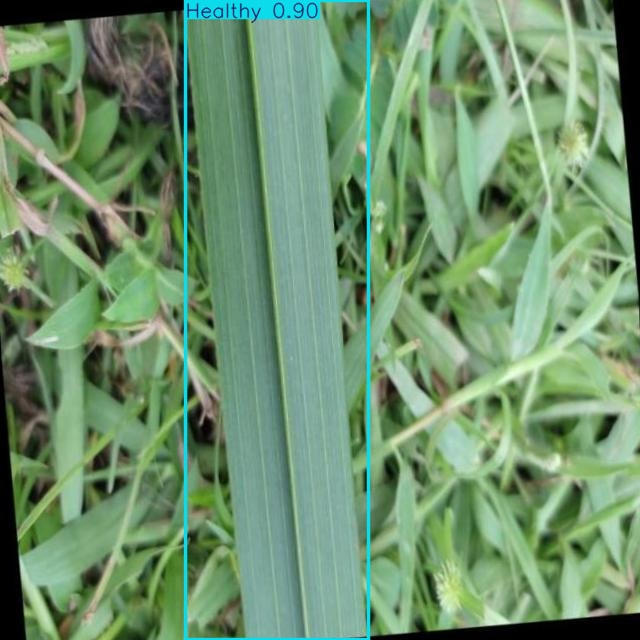Healthy: (186, 1, 368, 640)
